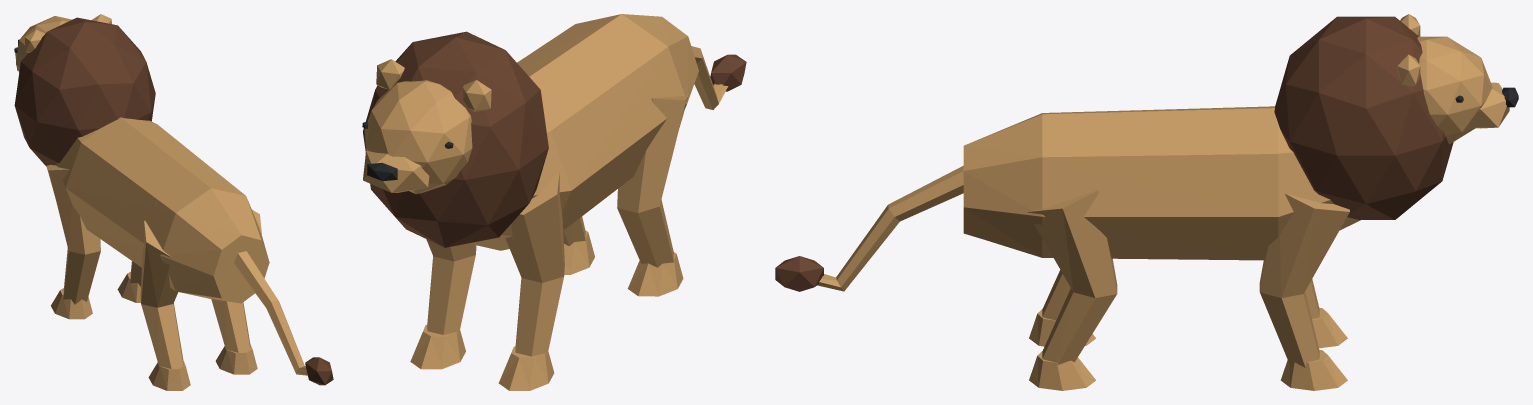
The model's file is lion.fbx.
The picture shows the model from 3 angles, left to right: view 1: azimuth 30°, elevation 25°; view 2: azimuth 150°, elevation 25°; view 3: azimuth 270°, elevation 25°; orthographic projection. The views are drawn at different scales.
Visible parts, largest first — view 1: lion; view 2: lion; view 3: lion.
Boxes of the visible parts, x1=… form: lion: x1=14, y1=14, x2=333, y2=390; lion: x1=362, y1=14, x2=746, y2=390; lion: x1=775, y1=14, x2=1518, y2=390.
Size of the model in its own units: 0.7608 by 1.63 by 3.21.
